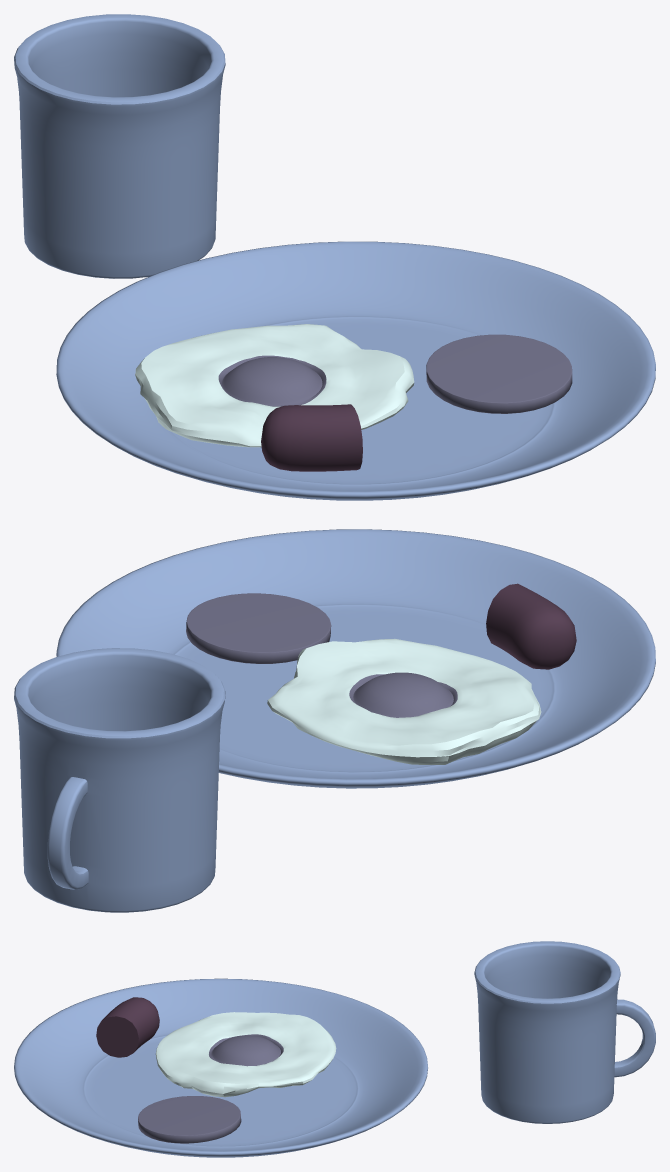
The model's file is Desyunomediolleno_osc.fbx.
The picture shows the model from 3 angles, top to bottom: view 1: azimuth 30°, elevation 25°; view 2: azimuth 150°, elevation 25°; view 3: azimuth 270°, elevation 25°; orthographic projection. The views are drawn at different scales.
Parts seen in each view (by area): view 1: Plato, Taza, Huevo2, Arepa2, Salchicha; view 2: Plato, Taza, Huevo2, Arepa2, Salchicha; view 3: Plato, Taza, Huevo2, Arepa2, Salchicha.
Part boxes in pixels (left/top/right/bottom): Plato: left=56, top=241, right=655, bottom=500; Taza: left=14, top=14, right=225, bottom=278; Huevo2: left=135, top=324, right=414, bottom=447; Arepa2: left=426, top=334, right=572, bottom=413; Salchicha: left=261, top=404, right=362, bottom=471; Plato: left=56, top=529, right=655, bottom=788; Taza: left=14, top=648, right=225, bottom=912; Huevo2: left=267, top=638, right=541, bottom=764; Arepa2: left=186, top=593, right=331, bottom=663; Salchicha: left=486, top=583, right=576, bottom=669; Plato: left=14, top=978, right=427, bottom=1157; Taza: left=474, top=941, right=655, bottom=1123; Huevo2: left=155, top=1012, right=336, bottom=1097; Arepa2: left=138, top=1096, right=241, bottom=1143; Salchicha: left=96, top=997, right=159, bottom=1057.
Size of the model in its own units: 597 by 202 by 926.
